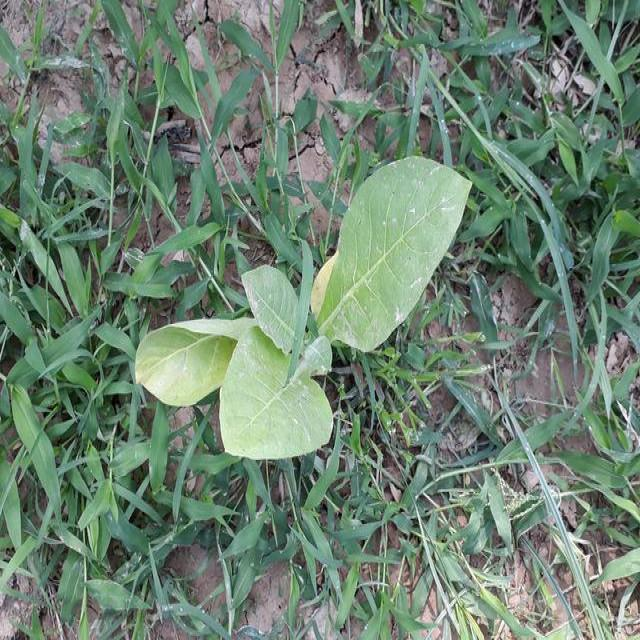crop: (132, 150, 479, 468)
